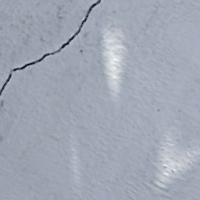crack: (1, 0, 103, 113)
